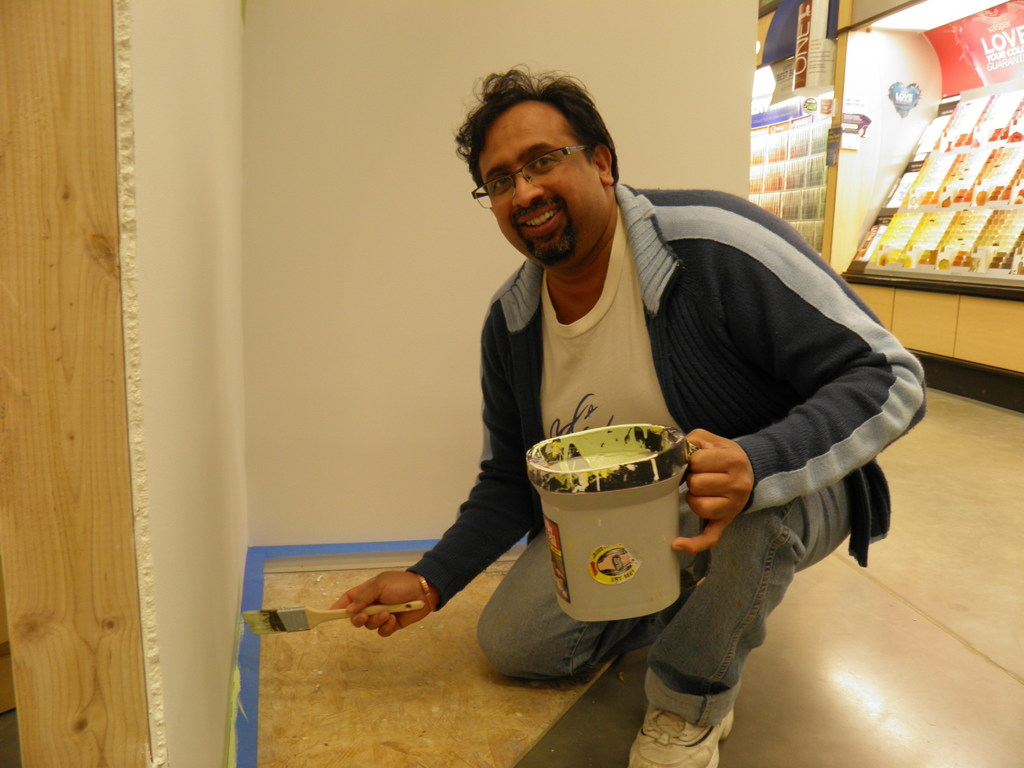Footwear: (627, 698, 737, 767), (334, 568, 435, 637)
